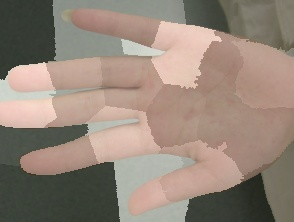SJS-TEN: (108, 0, 294, 201)
